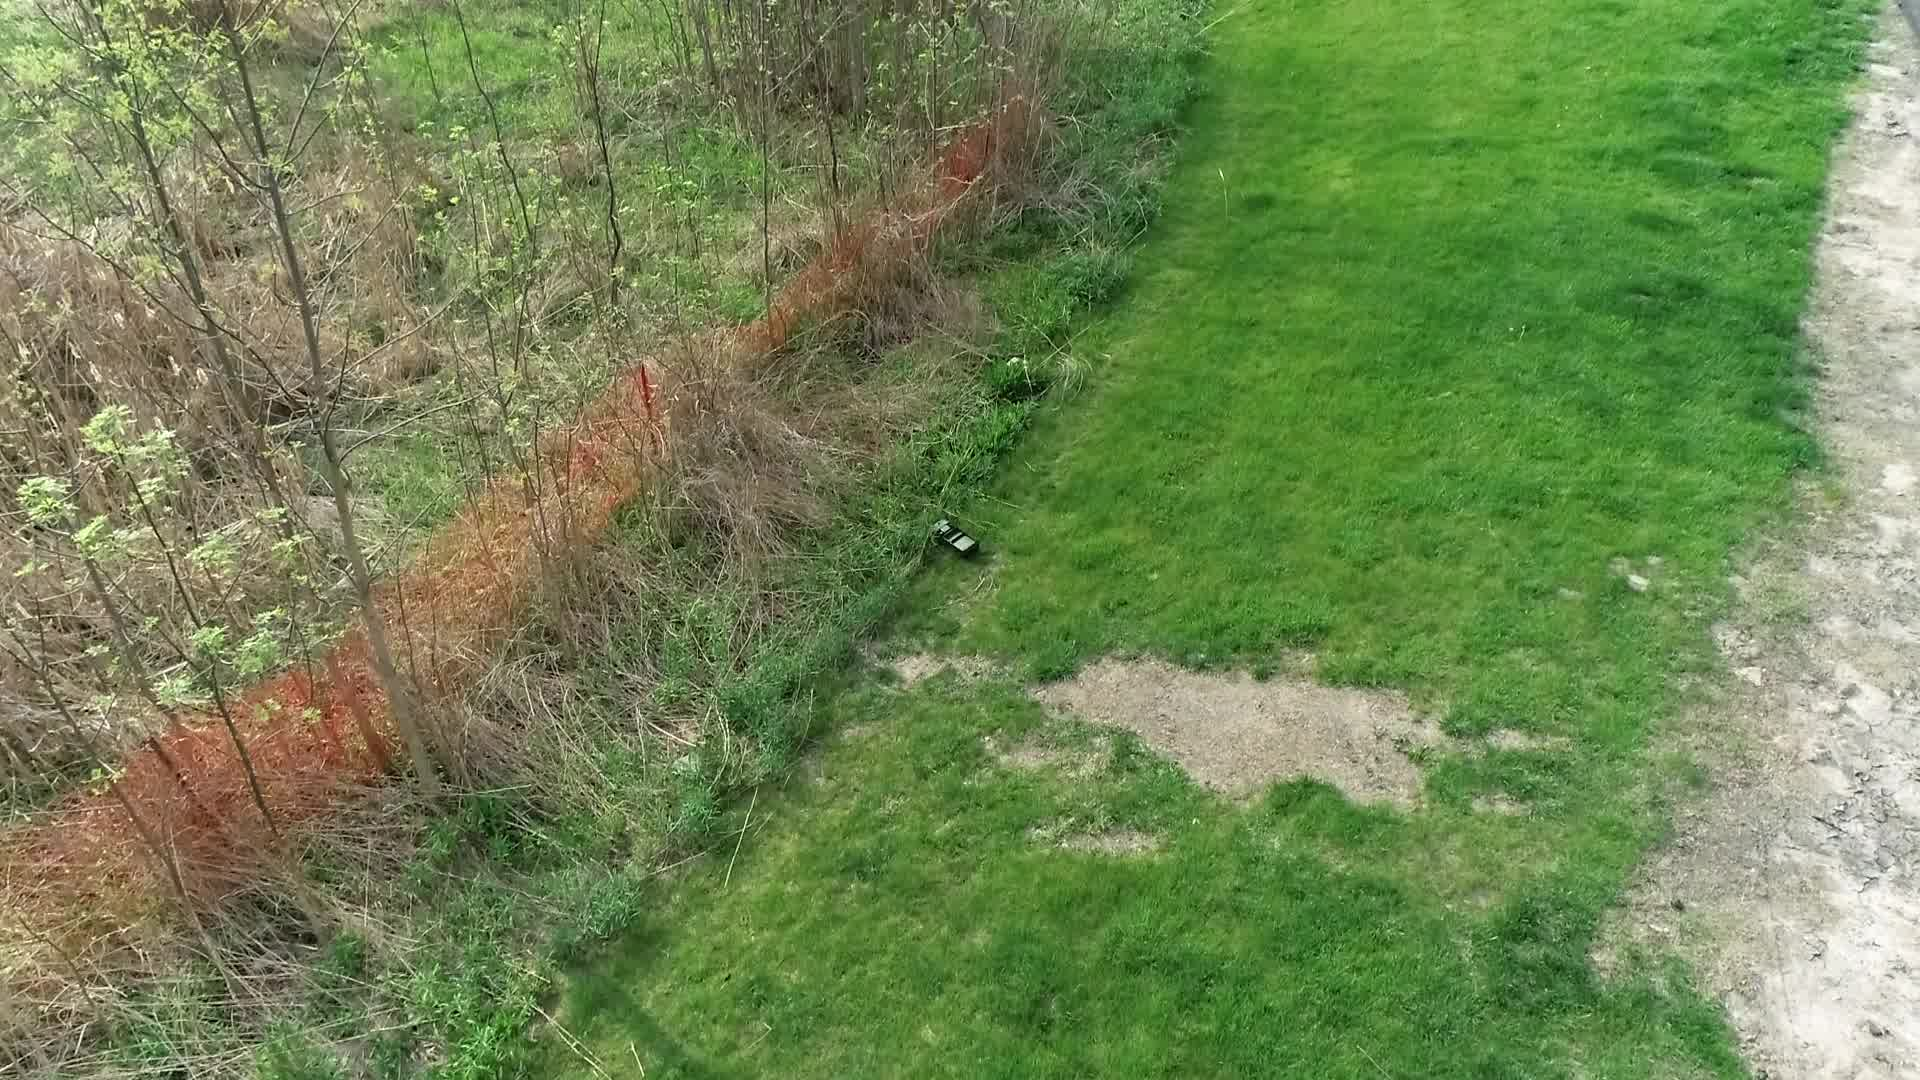transporter9: (931, 514, 978, 560)
